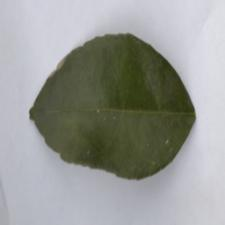Healthy: (28, 27, 188, 168)
